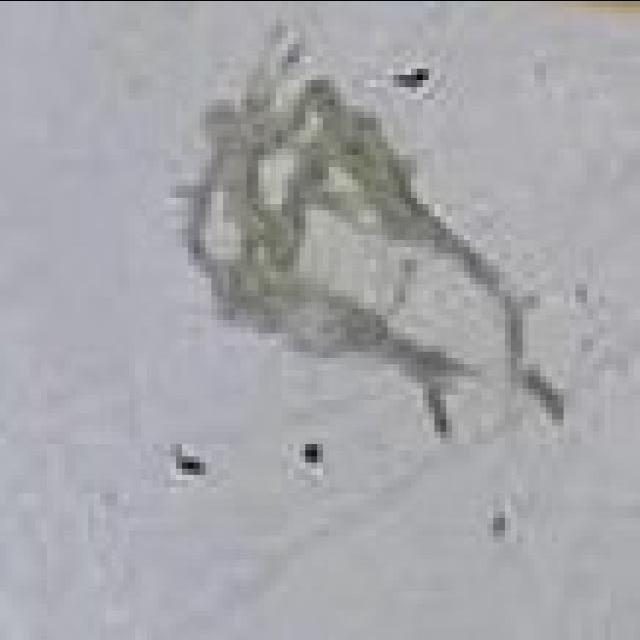Infectious: (166, 20, 563, 447)
Sharps: (363, 67, 429, 89)
